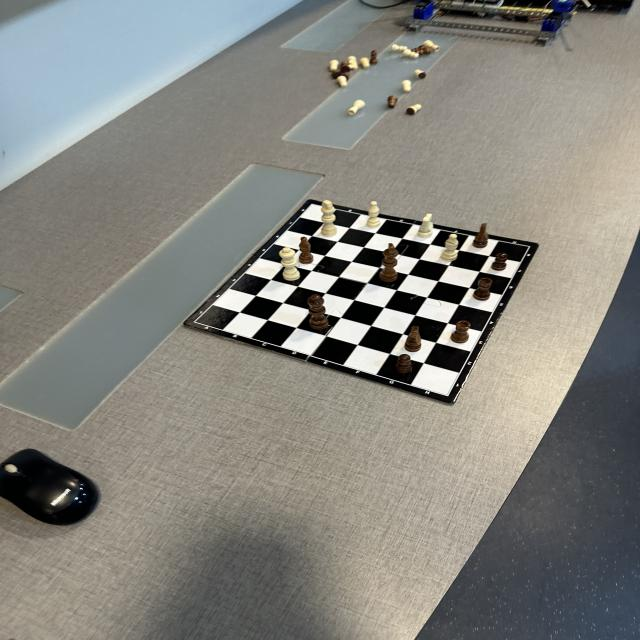Black-Bishop: (300, 237, 312, 264)
Black-King: (380, 242, 398, 282)
Black-Knight: (404, 326, 421, 352), (471, 222, 488, 248)
Black-Pawn: (396, 354, 414, 376), (492, 252, 507, 272), (387, 95, 398, 108), (416, 48, 432, 56), (370, 50, 378, 64), (412, 44, 425, 52), (341, 60, 349, 72), (331, 71, 344, 76)
Black-Queen: (308, 295, 329, 329)
Black-Rook: (451, 321, 471, 343), (473, 278, 492, 301)
White-Bishop: (440, 234, 458, 262), (366, 200, 381, 230)
White-King: (321, 201, 338, 237)
White-Knight: (418, 213, 433, 238), (348, 56, 358, 69)
White-Pawn: (406, 104, 422, 115), (402, 49, 419, 59), (337, 76, 348, 88), (414, 69, 426, 79), (402, 80, 412, 92), (392, 44, 408, 51), (360, 57, 370, 68), (329, 60, 339, 71)
White-Queen: (280, 247, 300, 280)
White-Rook: (348, 100, 366, 115), (423, 40, 439, 52)
